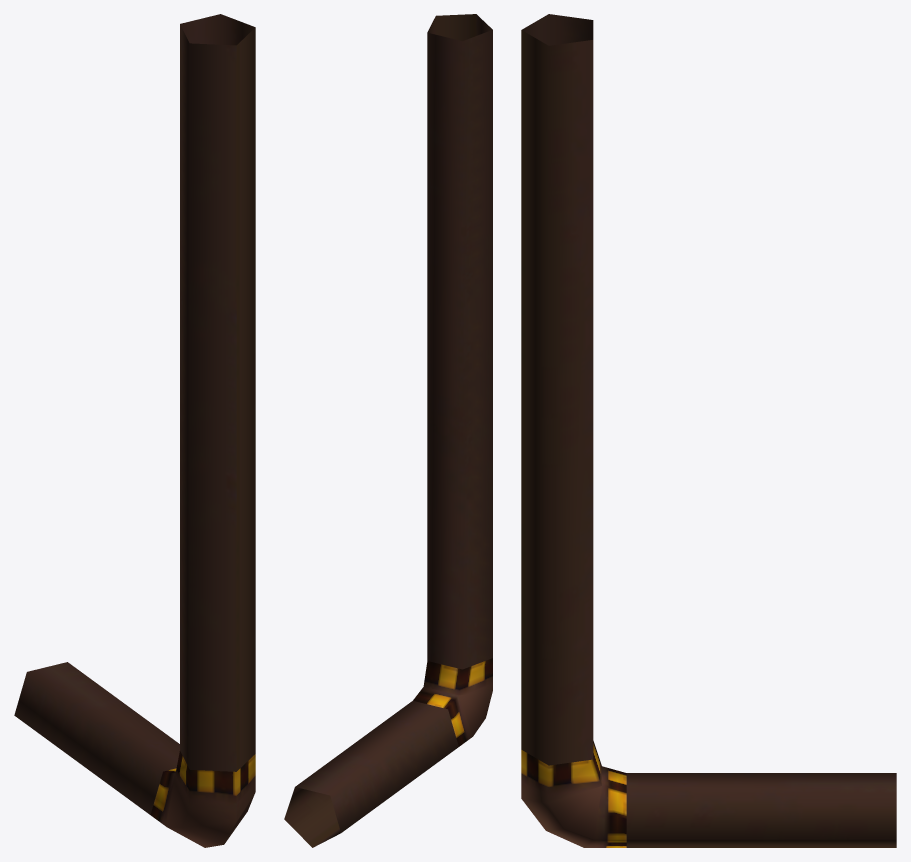
The model's file is sundries_10_fc508117__ZombiesII_depot_diffuse_03_573b45f4_c1f257.obj.
The picture shows the model from 3 angles, left to right: view 1: azimuth 30°, elevation 25°; view 2: azimuth 150°, elevation 25°; view 3: azimuth 270°, elevation 25°; orthographic projection. The views are drawn at different scales.
Size of the model in its own units: 0.6657 by 7.97 by 3.31.
Materials: 1 (1 with a texture image).
